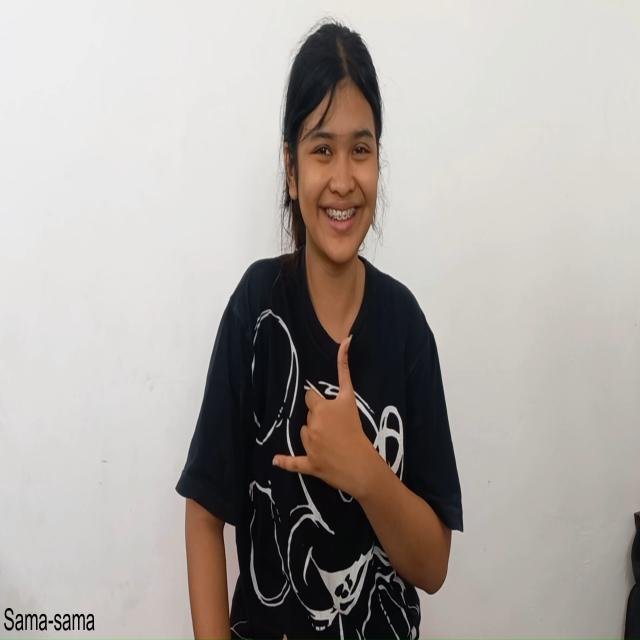Sama-sama -BISINDO-: (268, 327, 388, 510)
